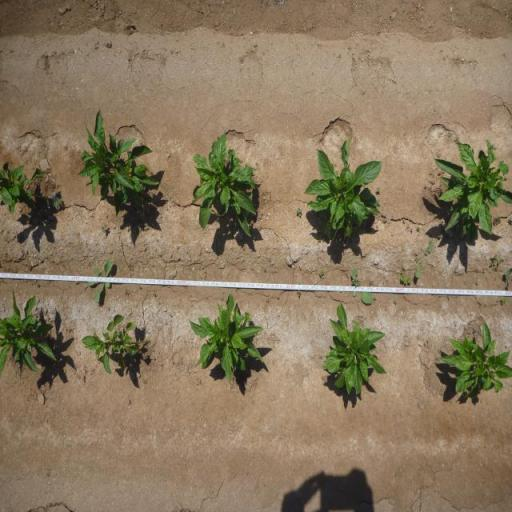plant: (74, 106, 160, 216), (304, 130, 384, 246), (430, 138, 512, 244), (190, 129, 262, 241), (187, 291, 267, 385), (435, 318, 512, 402), (321, 302, 389, 396), (0, 288, 59, 385), (80, 312, 148, 376), (0, 162, 45, 216)
weed: (86, 258, 114, 304), (350, 266, 373, 305), (412, 238, 434, 278), (489, 254, 504, 266), (52, 196, 64, 210), (315, 232, 326, 245), (400, 275, 412, 285), (504, 269, 512, 283), (492, 216, 502, 226), (101, 224, 108, 234), (318, 268, 324, 278), (296, 206, 301, 217), (500, 298, 508, 304), (376, 187, 382, 194), (436, 233, 443, 238)
